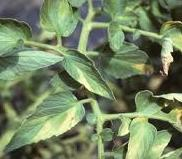Tomato mold leaf: (3, 91, 88, 155), (63, 49, 120, 106), (98, 40, 161, 80), (40, 0, 80, 41), (0, 19, 37, 57), (121, 122, 158, 159)
